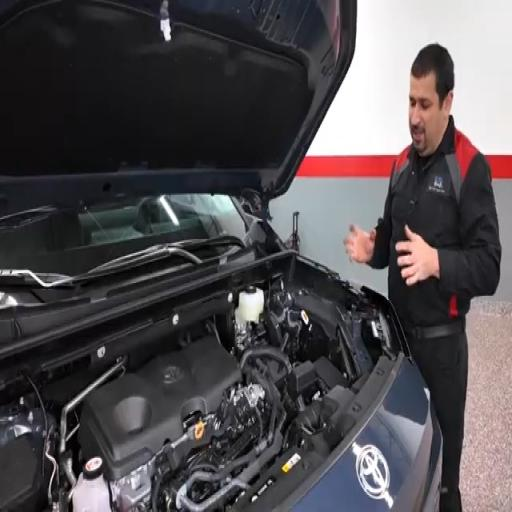bumper: (293, 360, 442, 511), (422, 412, 443, 511)
emblem: (356, 446, 389, 499), (164, 366, 182, 383)
hood: (0, 0, 356, 211)
windshield: (0, 194, 246, 275)
